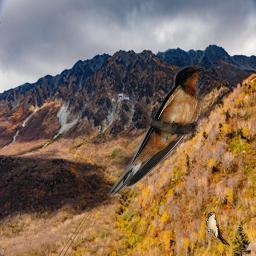Cuckoo: (206, 212, 231, 248)
Swallow: (105, 63, 208, 197)
